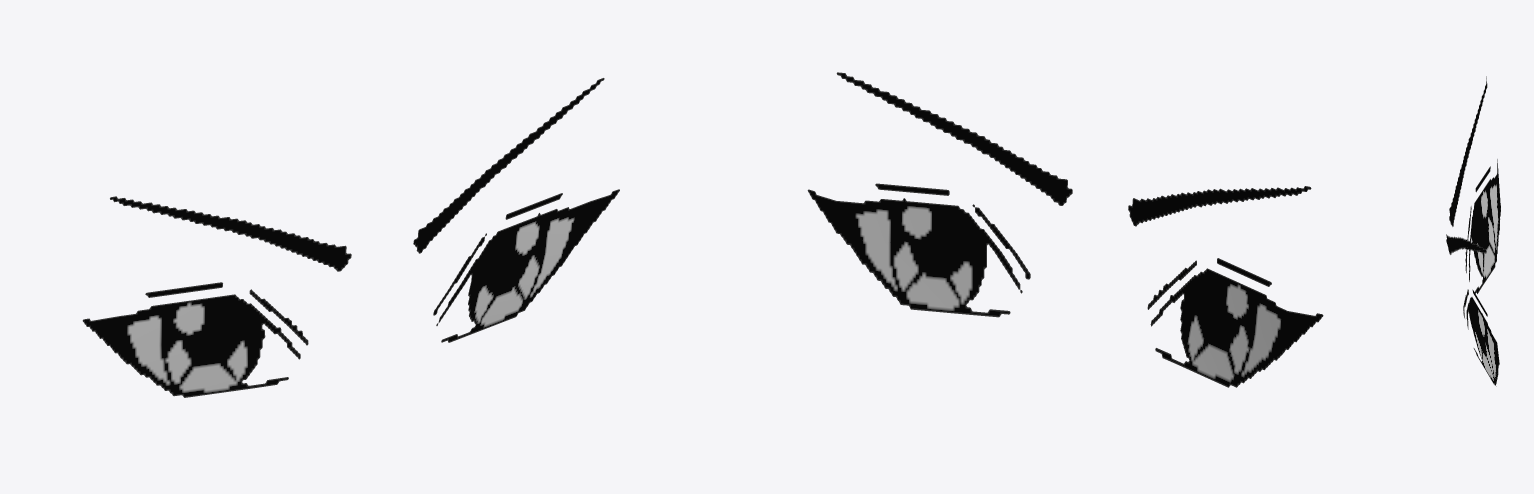
File: eyes.glb
3 renders of one model, left to right at view 1: azimuth 30°, elevation 25°; view 2: azimuth 150°, elevation 25°; view 3: azimuth 270°, elevation 25°, orthographic. The views are drawn at different scales.
Visible parts, largest first — view 1: eyes1; view 2: eyes1; view 3: eyes1.
Boxes of the visible parts, x1,y1,x2,y2 form: eyes1: (82,78,619,397); eyes1: (807,72,1323,387); eyes1: (1446,76,1500,386).
Bounding box in the file's own units: 0.7984 × 0.3566 × 0.1259.
1 material, 1 textured.
